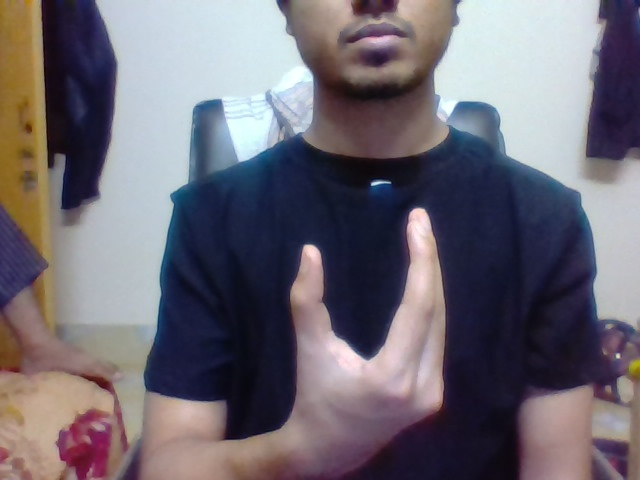U: (275, 198, 463, 393)
